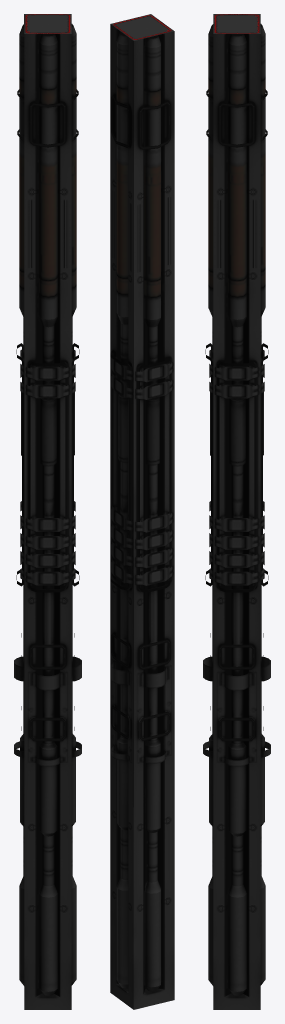
File: Panel_A_Beam_1.FBX
3 renders of one model, left to right at view 1: azimuth 90°, elevation 25°; view 2: azimuth 210°, elevation 25°; view 3: azimuth 270°, elevation 25°, orthographic.
Visible parts, largest first — view 1: Panel_A_Beam_1; view 2: Panel_A_Beam_1; view 3: Panel_A_Beam_1.
Part boxes in pixels (x1,y1,x2,y2): Panel_A_Beam_1: (14, 14, 81, 1009); Panel_A_Beam_1: (110, 14, 174, 1009); Panel_A_Beam_1: (203, 14, 270, 1009).
Size of the model in its own units: 25.2 by 400 by 25.2.
